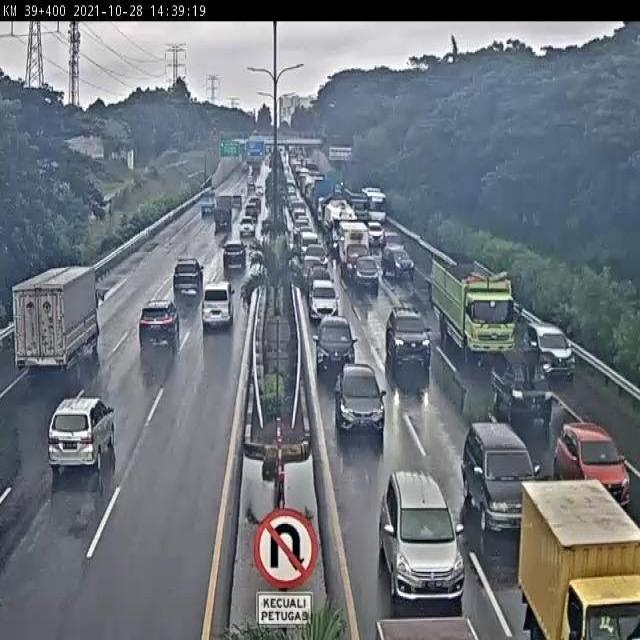car: (376, 470, 461, 598), (461, 423, 540, 532), (551, 419, 630, 505), (51, 396, 112, 468), (333, 365, 384, 432), (384, 312, 432, 368), (525, 326, 576, 378), (315, 317, 352, 372), (140, 300, 176, 344), (202, 283, 234, 329), (308, 276, 337, 321), (380, 242, 419, 274), (172, 256, 203, 292), (354, 255, 379, 285), (223, 242, 247, 270), (303, 253, 324, 280), (307, 264, 331, 285), (305, 244, 328, 265)
mid truck: (14, 266, 100, 374), (431, 256, 515, 353)
small truck: (491, 353, 554, 423), (340, 224, 370, 271)
